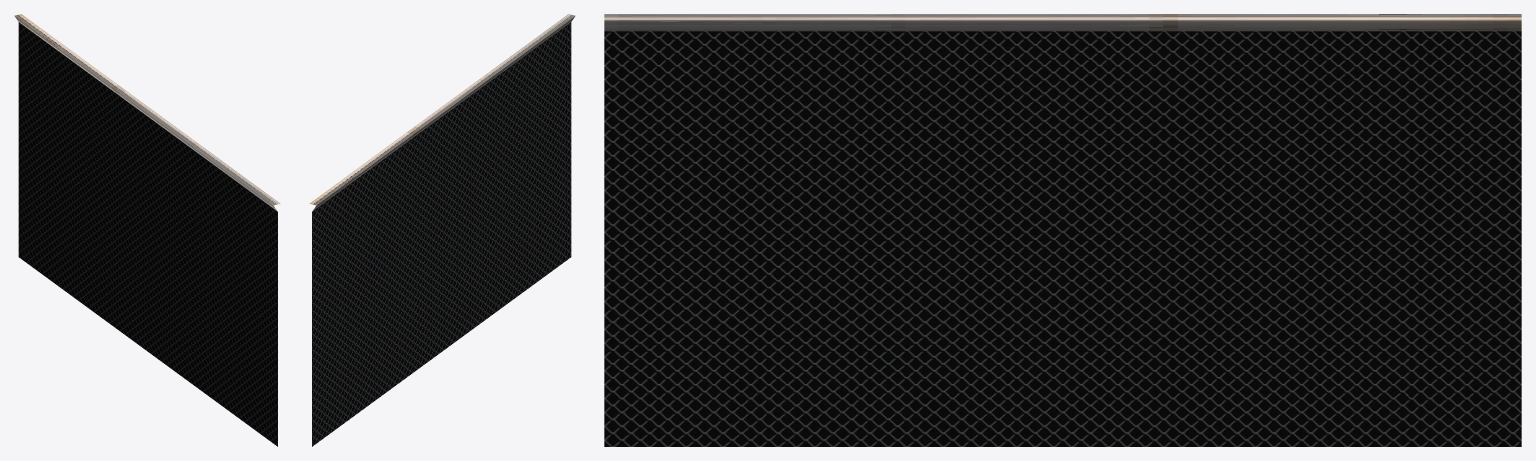
File: M11Z1_ChainFence_B22.glb
3 renders of one model, left to right at view 1: azimuth 30°, elevation 25°; view 2: azimuth 150°, elevation 25°; view 3: azimuth 270°, elevation 25°, orthographic. The views are drawn at different scales.
Parts seen in each view (by area): view 1: M11Z1_CHAINFENCE_B22; view 2: M11Z1_CHAINFENCE_B22; view 3: M11Z1_CHAINFENCE_B22.
Part boxes in pixels (x1,y1,x2,y2): M11Z1_CHAINFENCE_B22: (14, 14, 280, 446); M11Z1_CHAINFENCE_B22: (309, 14, 575, 446); M11Z1_CHAINFENCE_B22: (604, 14, 1521, 446).
Size of the model in its own units: 0.125 by 4 by 7.75.
Materials: 2 (2 with a texture image).
